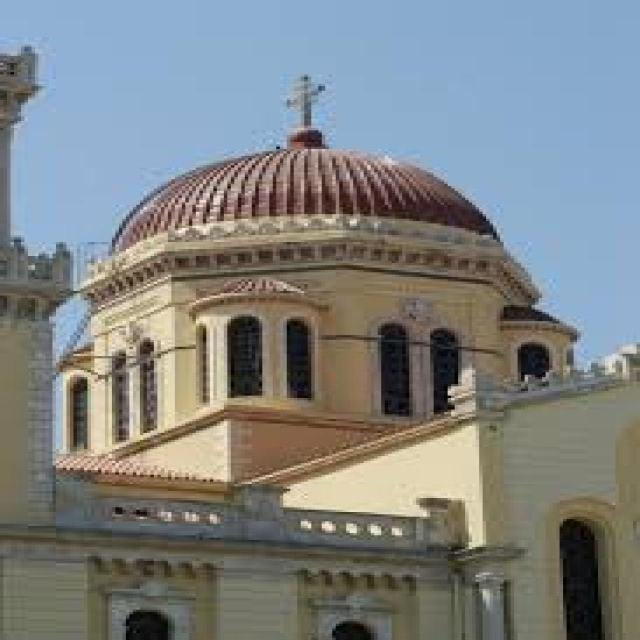Agios Minas: (1, 45, 640, 640)
